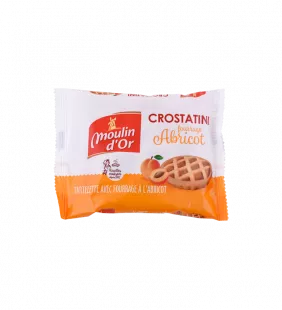MOULIN D'OR: (44, 77, 236, 228)
